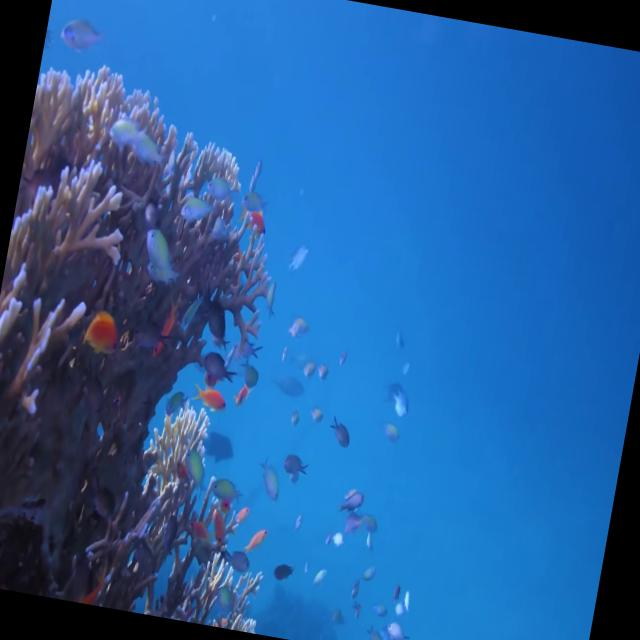fish: (136, 222, 187, 288), (76, 302, 125, 358)
